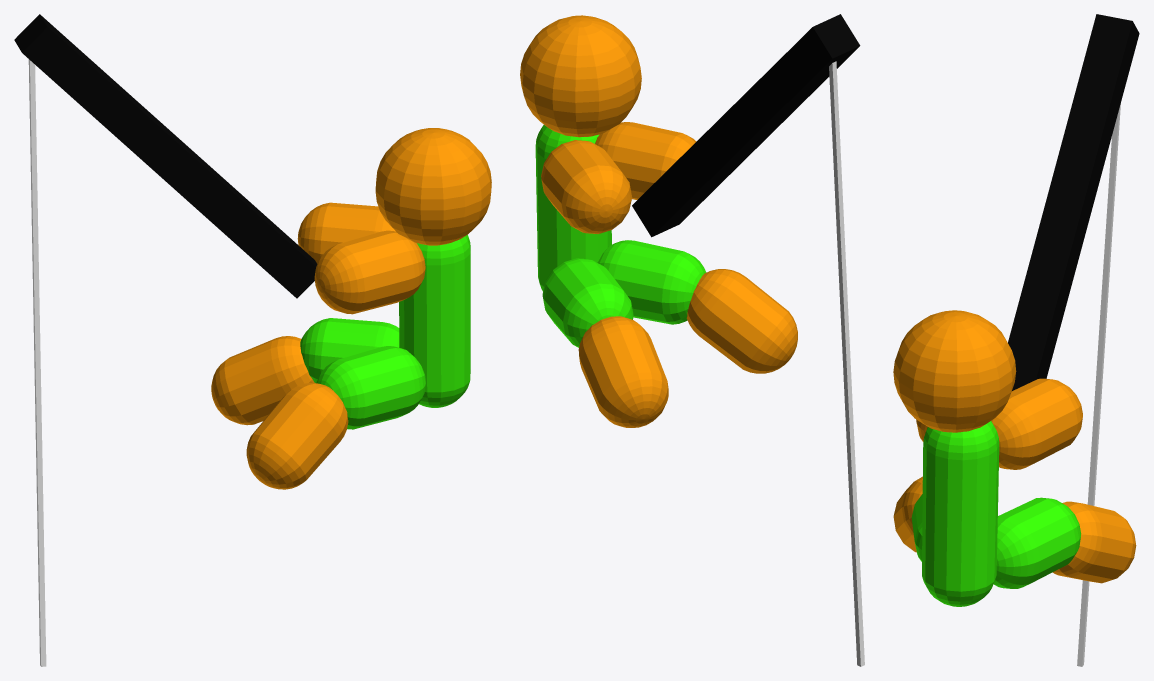
The model's file is L_turibito.fbx.
3 views of the same model, side by side, from view 1: azimuth 30°, elevation 25°; view 2: azimuth 150°, elevation 25°; view 3: azimuth 270°, elevation 25° (orthographic). The views are drawn at different scales.
Parts seen in each view (by area): view 1: Cube_016, Sphere_008, Sphere_001, Sphere_006, Sphere_005, Sphere_003, Sphere_007, Cube_017, Sphere_002, Sphere_004; view 2: Cube_016, Sphere_008, Sphere_006, Sphere_007, Sphere_004, Sphere_003, Cube_017, Sphere_002, Sphere_001, Sphere_005; view 3: Cube_016, Sphere_001, Sphere_008, Sphere_002, Sphere_004, Sphere_007, Cube_017, Sphere_006, Sphere_003.
Part boxes in pixels (x1,y1,x2,y2): Cube_016: (14,14,317,298); Sphere_008: (375,128,491,245); Sphere_001: (399,235,470,407); Sphere_006: (246,383,348,489); Sphere_005: (314,230,425,314); Sphere_003: (316,346,425,429); Sphere_007: (211,336,314,425); Cube_017: (28,59,46,666); Sphere_002: (300,318,399,382); Sphere_004: (297,202,395,263); Cube_016: (632,14,860,237); Sphere_008: (520,15,641,137); Sphere_006: (686,269,797,373); Sphere_007: (578,316,668,427); Sphere_004: (541,140,631,233); Sphere_003: (597,240,706,324); Cube_017: (829,61,864,666); Sphere_002: (542,258,633,347); Sphere_001: (535,125,611,291); Sphere_005: (595,122,696,199); Cube_016: (1008,14,1139,390); Sphere_001: (922,421,999,606); Sphere_008: (893,310,1016,432); Sphere_002: (993,497,1081,588); Sphere_004: (991,378,1082,469); Sphere_007: (1053,501,1136,583); Cube_017: (1077,103,1120,666); Sphere_006: (893,476,922,552); Sphere_003: (911,494,922,561).
Size of the model in its own units: 247 by 380 by 129.
